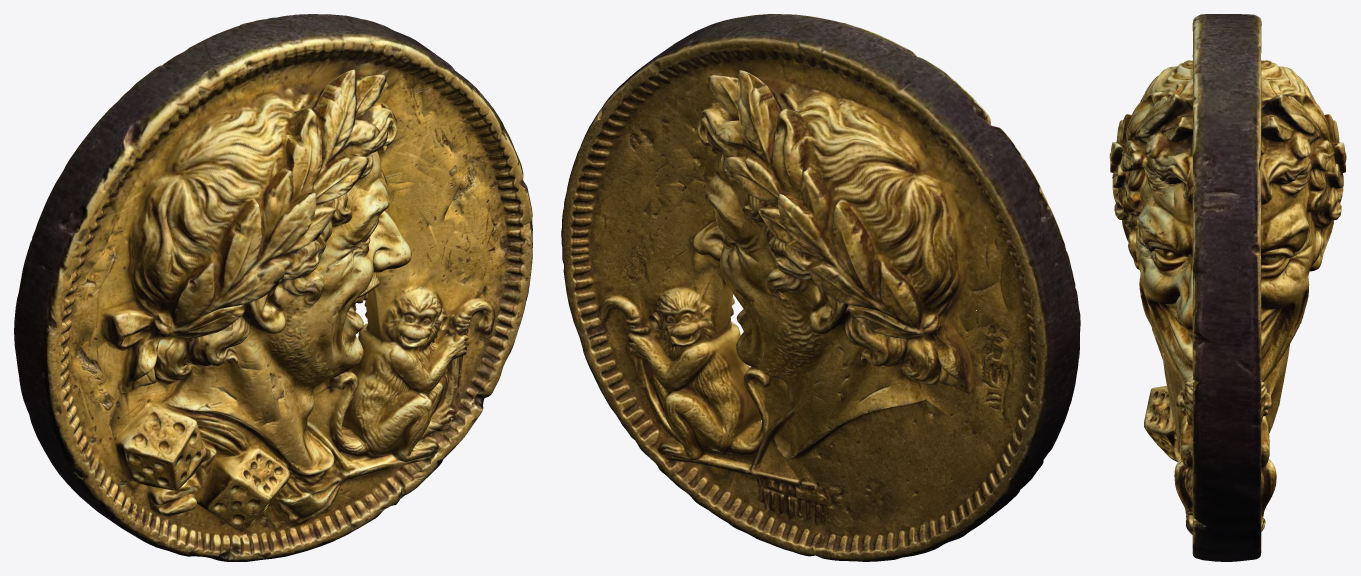
The model's file is hero-degen.glb.
3 views of the same model, side by side, from view 1: azimuth 30°, elevation 25°; view 2: azimuth 150°, elevation 25°; view 3: azimuth 270°, elevation 25° (orthographic). The views are drawn at different scales.
Visible parts, largest first — view 1: tripo_node_7394aa80-a9e5-45a8-8621-0622c32f56fe; view 2: tripo_node_7394aa80-a9e5-45a8-8621-0622c32f56fe; view 3: tripo_node_7394aa80-a9e5-45a8-8621-0622c32f56fe.
Boxes of the visible parts, x1,y1,x2,y2 form: tripo_node_7394aa80-a9e5-45a8-8621-0622c32f56fe: (14, 14, 532, 561); tripo_node_7394aa80-a9e5-45a8-8621-0622c32f56fe: (561, 14, 1080, 561); tripo_node_7394aa80-a9e5-45a8-8621-0622c32f56fe: (1109, 14, 1346, 561).
Bounding box in the file's own units: 0.9995 × 0.9998 × 0.4335.
Materials: 1 (1 with a texture image).
